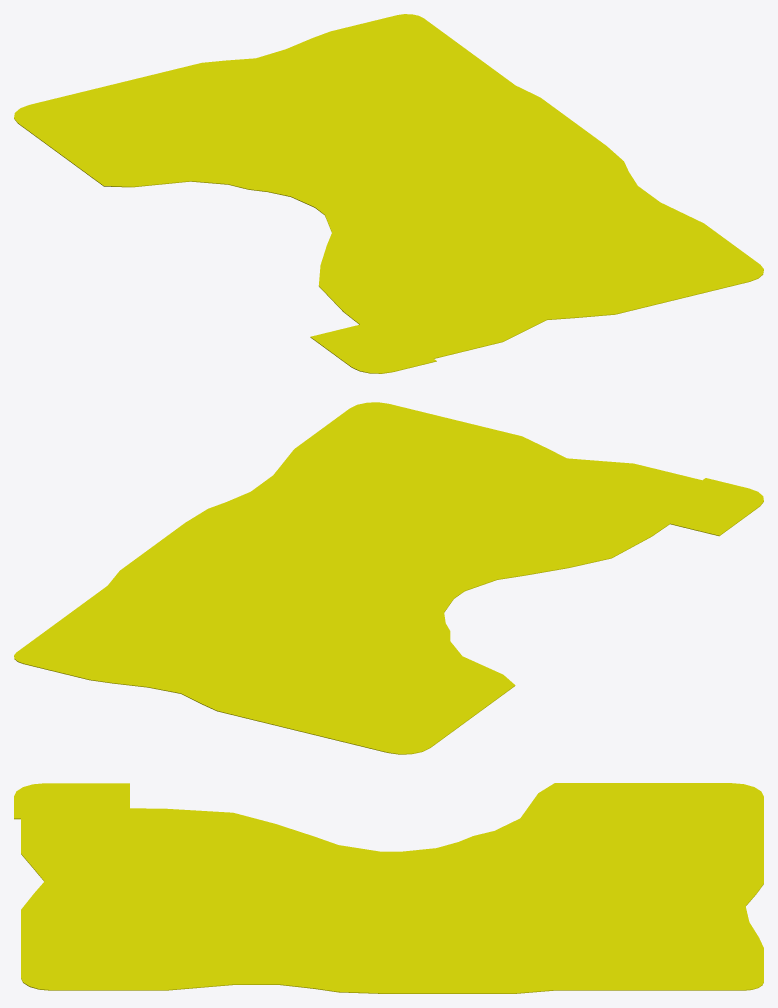
The model's file is sm_hana_building_14f_ceiling.glb.
3 renders of one model, top to bottom at view 1: azimuth 30°, elevation 25°; view 2: azimuth 150°, elevation 25°; view 3: azimuth 270°, elevation 25°, orthographic. The views are drawn at different scales.
Visible parts, largest first — view 1: sm_hana_building_14f_ceiling; view 2: sm_hana_building_14f_ceiling; view 3: sm_hana_building_14f_ceiling.
Part boxes in pixels (x1=…): sm_hana_building_14f_ceiling: x1=14, y1=14, x2=763, y2=373; sm_hana_building_14f_ceiling: x1=14, y1=402, x2=763, y2=754; sm_hana_building_14f_ceiling: x1=14, y1=783, x2=763, y2=993.
Size of the model in its own units: 65.28 by 0.1022 by 98.5.
Materials: 1 (1 with a texture image).
